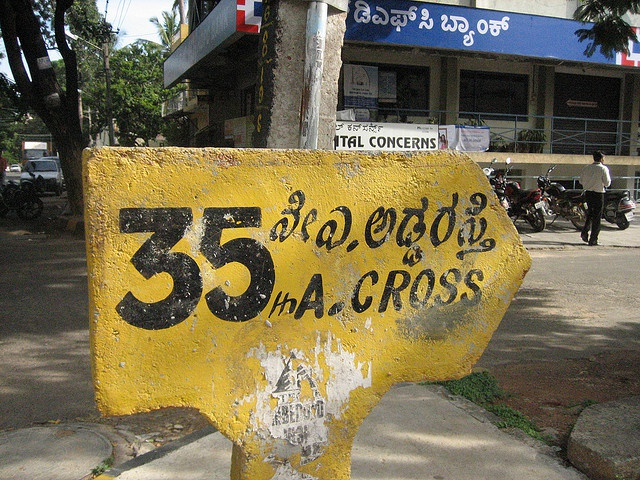non-vehicle: (481, 156, 546, 232), (536, 163, 586, 231), (0, 173, 47, 220), (601, 188, 636, 230)
